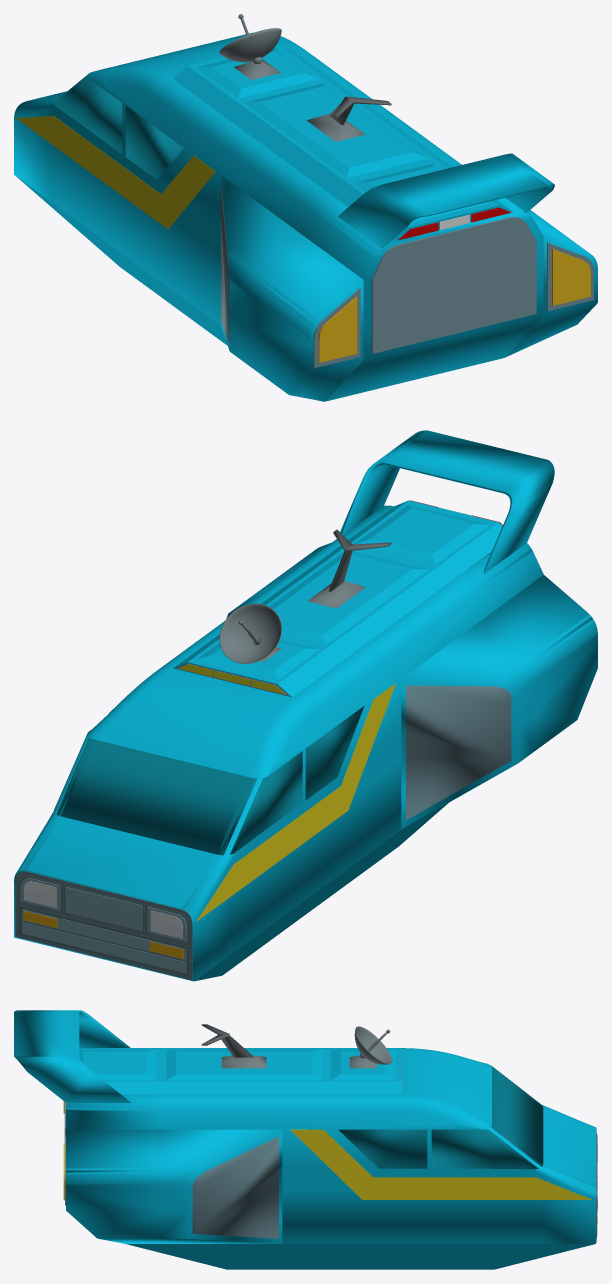
File: space_van_prototype.glb
3 renders of one model, top to bottom at view 1: azimuth 30°, elevation 25°; view 2: azimuth 150°, elevation 25°; view 3: azimuth 270°, elevation 25°, orthographic. The views are drawn at different scales.
Parts seen in each view (by area): view 1: New_Game_Object (×16); view 2: New_Game_Object (×16); view 3: New_Game_Object (×11).
Boxes of the visible parts, x1=… form: New_Game_Object (×16): x1=14, y1=14, x2=597, y2=401; New_Game_Object (×16): x1=14, y1=430, x2=597, y2=981; New_Game_Object (×11): x1=14, y1=1010, x2=596, y2=1269.
Bounding box in the file's own units: 3.32 × 3.21 × 7.68.
